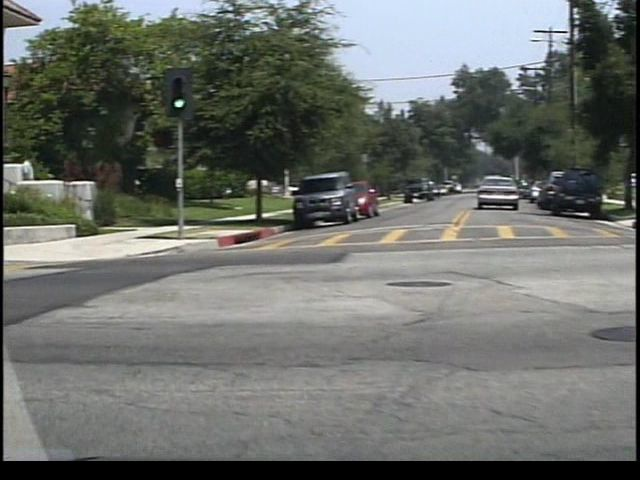person: (11, 153, 30, 214)
